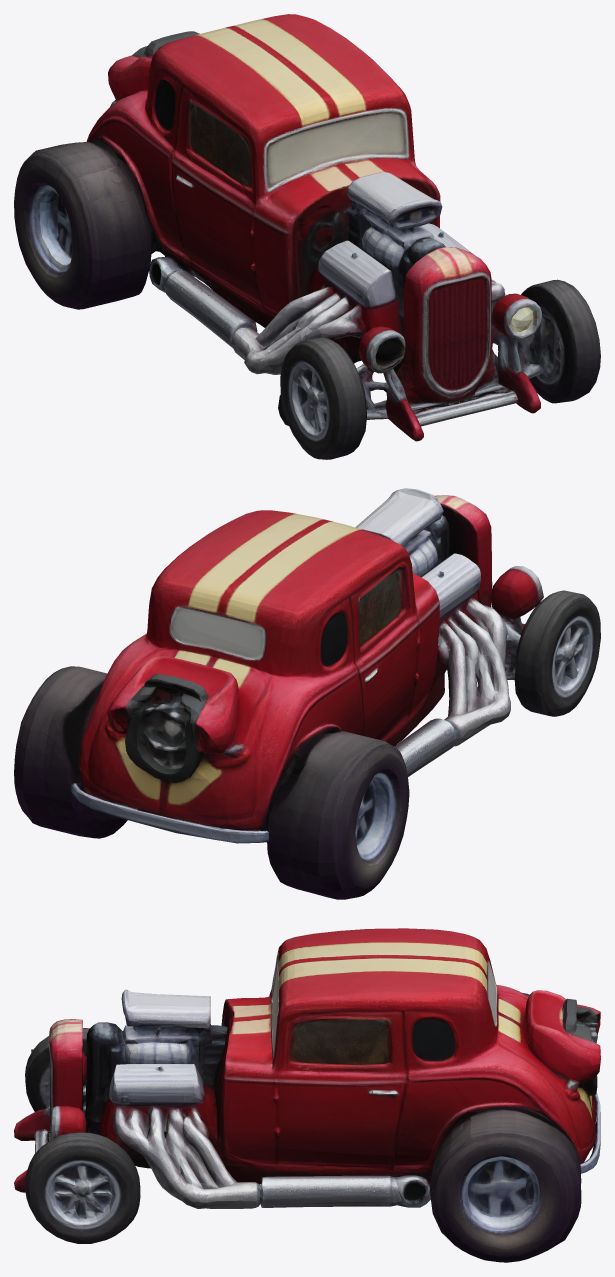
Rendered from car_sedan.glb.
3 renders of one model, top to bottom at view 1: azimuth 30°, elevation 25°; view 2: azimuth 150°, elevation 25°; view 3: azimuth 270°, elevation 25°, orthographic. The views are drawn at different scales.
Parts seen in each view (by area): view 1: world; view 2: world; view 3: world.
Boxes of the visible parts, x1=… form: world: x1=14, y1=14, x2=600, y2=459; world: x1=14, y1=488, x2=600, y2=899; world: x1=14, y1=928, x2=600, y2=1262.
Bounding box in the file's own units: 0.6026 × 0.4531 × 1.
Materials: 1 (1 with a texture image).
